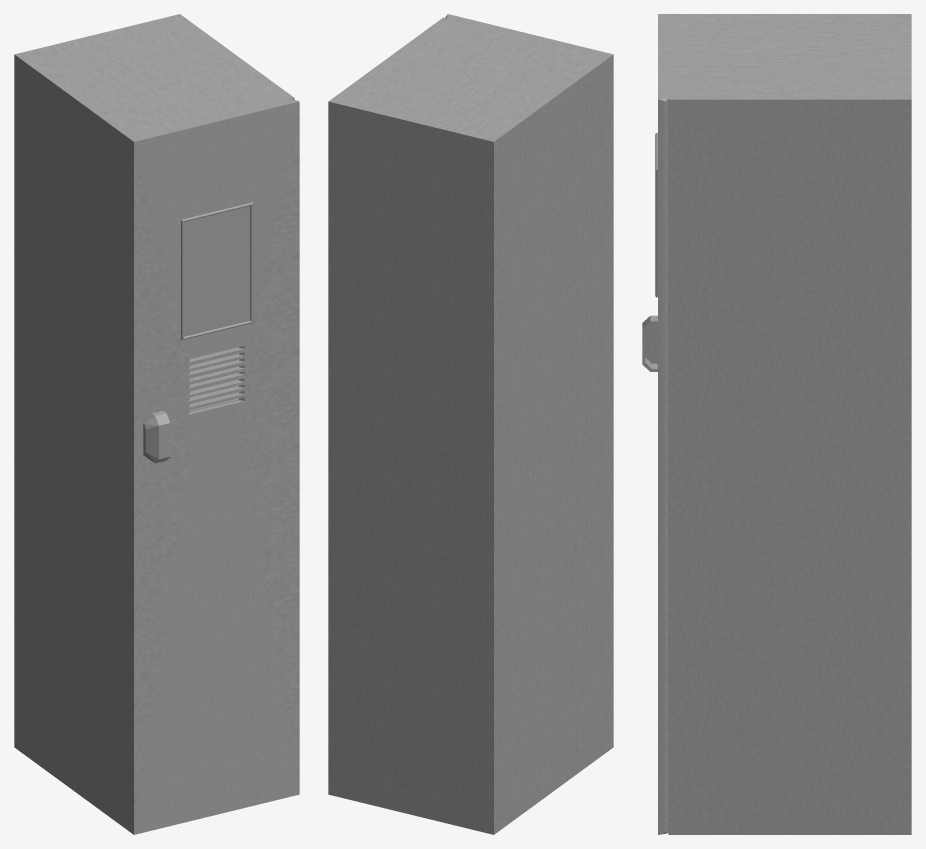
File: Locker.fbx
3 renders of one model, left to right at view 1: azimuth 30°, elevation 25°; view 2: azimuth 150°, elevation 25°; view 3: azimuth 270°, elevation 25°, orthographic. The views are drawn at different scales.
Visible parts, largest first — view 1: pCube6, pCube4; view 2: pCube4, pCube6; view 3: pCube4, pCube6.
Boxes of the visible parts, box(x1,y1,x2,y2) form: pCube6: box(129, 99, 299, 834); pCube4: box(14, 14, 294, 830); pCube4: box(328, 17, 608, 834); pCube6: box(445, 14, 613, 750); pCube4: box(668, 14, 911, 834); pCube6: box(642, 14, 668, 834).
Bounding box in the file's own units: 5 × 20 × 6.64.
4 materials, 3 textured.
